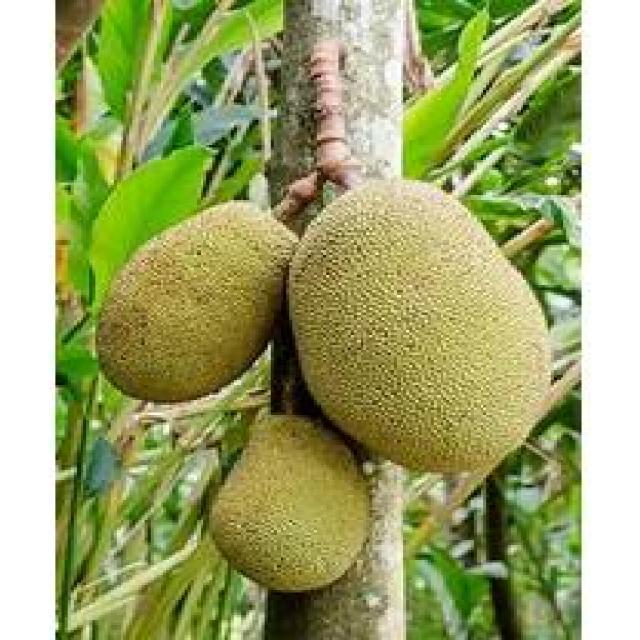Fruit: (274, 170, 566, 488), (86, 190, 308, 418), (197, 385, 391, 615)
